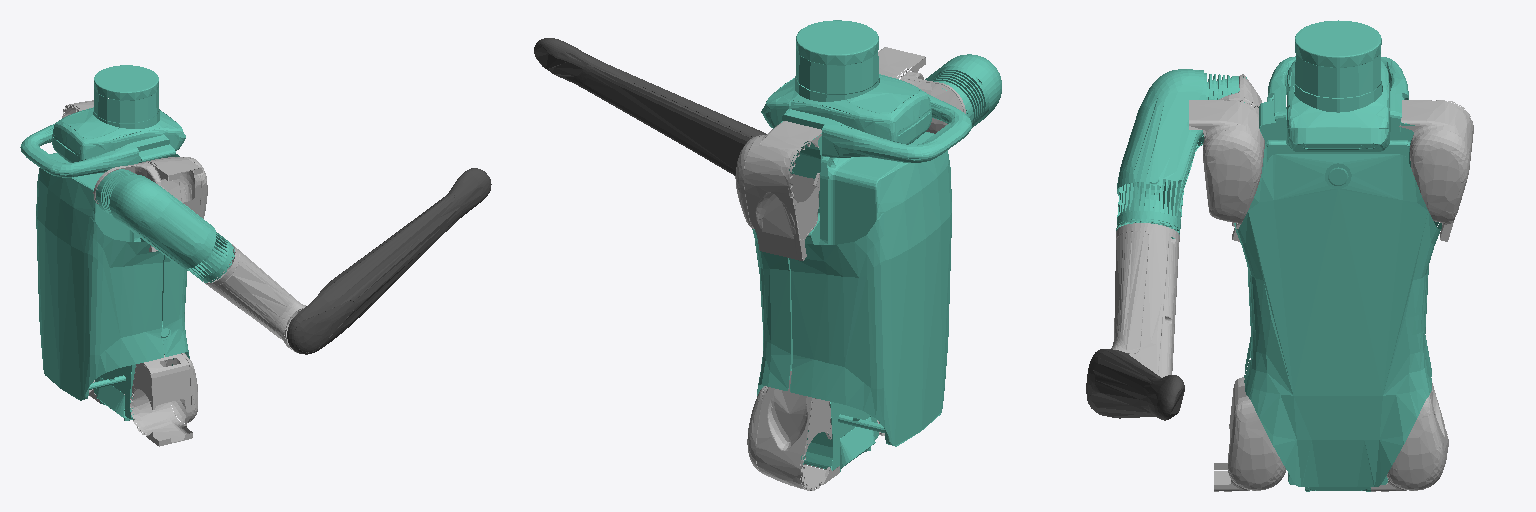
The robot description file, URDF, robot "digit-v3-springfixed":
<?xml version="1.0" encoding="utf-8"?>
<robot name="digit-v3-springfixed">
  <link name = "torso">
    <inertial>
      <origin rpy="0 0 0" xyz="0.001636612541 0.0002001180789 0.2593064529"/>
      <mass value="15.028392"/>
      <inertia ixx="0.3759052548" ixy="-8.776732849e-05" ixz="0.008498611229" iyy="0.3441935" iyz="6.621611757e-05" izz="0.09873232746"/>
    </inertial>
    <visual>
      <origin rpy="0 0 0" xyz="0 0 0"/>
      <geometry>
        <mesh filename="meshes/torso-v3/torso.stl"/>
      </geometry>
      <material name="scarlet">
        <color rgba="0.427 0.784 0.714 1"/>
      </material>
    </visual>
    <visual>
      <origin rpy="0 -1.5707963267948966192313216916398 0" xyz="-0.001 0.091 0"/>
      <geometry>
        <mesh filename="meshes/leg-v3/hip-roll-housing.stl"/>
      </geometry>
      <material name="light_grey">
        <color rgba="0.75 0.75 0.75 1"/>
      </material>
    </visual>
    <visual>
      <origin rpy="-0 -1.5707963267948966192313216916398 0" xyz="-0.001 0.12 0.4"/>
      <geometry>
        <mesh filename="meshes/arm-v3/link-0.stl"/>
      </geometry>
      <material name="light_grey">
        <color rgba="0.75 0.75 0.75 1"/>
      </material>
    </visual>
    <visual>
      <origin rpy="0 -1.5707963267948966192313216916398 0" xyz="-0.001 -0.091 0"/>
      <geometry>
        <mesh filename="meshes/leg-v3/hip-roll-housing.stl"/>
      </geometry>
      <material name="light_grey">
        <color rgba="0.75 0.75 0.75 1"/>
      </material>
    </visual>
    <visual>
      <origin rpy="0 -1.5707963267948966192313216916398 0" xyz="-0.001 -0.12 0.4"/>
      <geometry>
        <mesh filename="meshes/arm-v3/link-0.stl"/>
      </geometry>
      <material name="light_grey">
        <color rgba="0.75 0.75 0.75 1"/>
      </material>
    </visual>
    <collision>
      <origin rpy="0 0 0" xyz="0 0 0"/>
      <geometry>
        <mesh filename="meshes/torso-v3/torso.stl"/>
      </geometry>
    </collision>
    <collision>
      <origin rpy="0 -1.5707963267948966192313216916398 0" xyz="-0.001 0.091 0"/>
      <geometry>
        <mesh filename="meshes/leg-v3/hip-roll-housing.stl"/>
      </geometry>
    </collision>
    <collision>
      <origin rpy="-0.1745   -1.5707963267948966192313216916398         0" xyz="-0.001 0.12 0.4"/>
      <geometry>
        <mesh filename="meshes/arm-v3/link-0.stl"/>
      </geometry>
    </collision>
    <collision>
      <origin rpy="0 -1.5707963267948966192313216916398 0" xyz="-0.001 -0.091 0"/>
      <geometry>
        <mesh filename="meshes/leg-v3/hip-roll-housing.stl"/>
      </geometry>
    </collision>
    <collision>
      <origin rpy="0.1745   -1.5707963267948966192313216916398         0" xyz="-0.001 -0.12 0.4"/>
      <geometry>
        <mesh filename="meshes/arm-v3/link-0.stl"/>
      </geometry>
    </collision>
  </link>

  <!-- right arm -->
  <link name="right_shoulder_roll">
    <inertial>
      <origin rpy="0 0 0" xyz="-0.000819 0.003158 0.023405"/>
      <mass value="0.535396"/>
      <inertia ixx="0.000704" ixy="-1.4e-05" ixz="1.2e-05" iyy="0.00075" iyz="-3.5e-05" izz="0.000298"/>
    </inertial>
    <visual>
      <origin rpy="0         0    3.1415926535897932384626433832795" xyz="0 0 0"/>
      <geometry>
        <mesh filename="meshes/arm-v3/link-1.stl" scale="1 1 1"/>
      </geometry>
      <material name="light_grey">
        <color rgba="0.75 0.75 0.75 1"/>
      </material>
    </visual>
    <collision>
      <origin rpy="0         0    0.2793" xyz="0 0 0"/>
      <geometry>
        <mesh filename="meshes/arm-v3/link-1.stl" scale="1 1 1"/>
      </geometry>
    </collision>
  </link>
  <link name="right_shoulder_pitch">
    <inertial>
      <origin rpy="0 0 0" xyz="-4.2e-05 0.061882 -0.073788"/>
      <mass value="1.440357"/>
      <inertia ixx="0.006761" ixy="6e-06" ixz="-3e-06" iyy="0.002087" iyz="0.002046" izz="0.005778"/>
    </inertial>
    <visual>
      <origin rpy="0 0 3.1415926535897932384626433832795" xyz="0 0 0"/>
      <geometry>
        <mesh filename="meshes/arm-v3/link-2.stl" scale="1 1 1"/>
      </geometry>
      <material name="scarlet">
        <color rgba="0.427 0.784 0.714 1"/>
      </material>
    </visual>
    <collision>
      <origin rpy="0 0 0" xyz="0 0 0"/>
      <geometry>
        <mesh filename="meshes/arm-v3/link-2.stl" scale="1 1 1"/>
      </geometry>
    </collision>
  </link>
  <link name="right_shoulder_yaw">
    <inertial>
      <origin rpy="0 0 0" xyz="-3e-05 -0.001937 0.11407"/>
      <mass value="1.065387"/>
      <inertia ixx="0.006967" ixy="1e-06" ixz="-1e-06" iyy="0.007003" iyz="1.5e-05" izz="0.000673"/>
    </inertial>
    <visual>
      <origin rpy="0 0 3.1415926535897932384626433832795" xyz="0 0 0"/>
      <geometry>
        <mesh filename="meshes/arm-v3/link-3.stl" scale="1 1 1"/>
      </geometry>
      <material name="light_grey">
        <color rgba="0.75 0.75 0.75 1"/>
      </material>
    </visual>
    <collision>
      <origin rpy="0 0 0" xyz="0 0 0"/>
      <geometry>
        <mesh filename="meshes/arm-v3/link-3.stl" scale="1 1 1"/>
      </geometry>
    </collision>
  </link>
  <link name="right_elbow">
    <inertial>
      <origin rpy="0 0 0" xyz="0.107996 -0.000521 -0.017765"/>
      <mass value="0.550582"/>
      <inertia ixx="0.000476" ixy="2.9e-05" ixz="0.001403" iyy="0.009564" iyz="-9e-06" izz="0.009437"/>
    </inertial>
    <visual>
      <origin rpy="0 0 0" xyz="0 0 0"/>
      <geometry>
        <mesh filename="meshes/arm-v3/link-4.stl" scale="1 1 1"/>
      </geometry>
      <material name="grey">
        <color rgba="0.35 0.35 0.35 1"/>
      </material>
    </visual>
    <collision>
      <origin rpy="0 0 0" xyz="0 0 0"/>
      <geometry>
        <mesh filename="meshes/arm-v3/link-4.stl" scale="1 1 1"/>
      </geometry>
    </collision>
  </link>

  <!-- right arm -->
  <joint name="right_shoulder_roll" type="revolute">
    <origin rpy="1.5707963267948966192313216916398 -1.3962633 -1.5707963267948966192313216916398" xyz="-0.001 -0.12 0.4"/>
    <axis xyz="0 0 1"/>
    <parent link="torso"/>
    <child link="right_shoulder_roll"/>
    <dynamics damping="2.0" friction="2.0"/>
    <limit effort="1.4" lower="-1.309" upper="1.309" velocity="12.5"/>
  </joint>
  <joint name="right_shoulder_pitch" type="revolute">
    <origin rpy="-1.5707963267948966192313216916398 0.78539816339744830961566084581988 0.2792527" xyz="-0.00317 0.011055 0.0555"/>
    <axis xyz="0 0 -1"/>
    <parent link="right_shoulder_roll"/>
    <child link="right_shoulder_pitch"/>
    <dynamics damping="2.0" friction="2.0"/>
    <limit effort="1.4" lower="-2.5307" upper="2.5307" velocity="12.5"/>
  </joint>
  <joint name="right_shoulder_yaw" type="revolute">
    <origin rpy="-1.5707963267948966192313216916398         0         0" xyz="0 0.165 -0.1"/>
    <axis xyz="0 0 1"/>
    <parent link="right_shoulder_pitch"/>
    <child link="right_shoulder_yaw"/>
    <dynamics damping="2.0" friction="2.0"/>
    <limit effort="1.4" lower="-1.7453" upper="1.7453" velocity="10"/>
  </joint>
  <joint name="right_elbow" type="revolute">
    <origin rpy="-1.5707963267948966192313216916398 -0.3926991 0" xyz="0 0.0385 0.185"/>
    <axis xyz="0 0 1"/>
    <parent link="right_shoulder_yaw"/>
    <child link="right_elbow"/>
    <dynamics damping="2.0" friction="2.0"/>
    <limit effort="1.4" lower="-1.3526" upper="1.3526" velocity="12.5"/>
  </joint>
</robot>

--- What the picture shows (computed from the rendered views, not written in the file) ---
Views: 3 orthographic renders of the robot side by side, from view 1: azimuth 30°, elevation 25°; view 2: azimuth 150°, elevation 25°; view 3: azimuth 270°, elevation 25°.
Robot: digit-v3-springfixed — 5 links, 4 joints (4 revolute); root link torso; default pose: every joint at zero.
Links seen in each view (by area): view 1: torso, right_elbow, right_shoulder_pitch, right_shoulder_yaw, right_shoulder_roll; view 2: torso, right_elbow, right_shoulder_pitch, right_shoulder_roll; view 3: torso, right_shoulder_pitch, right_shoulder_yaw, right_elbow, right_shoulder_roll.
Link boxes in pixels (x1,y1,x2,y2): torso: (20, 65, 207, 446); right_elbow: (287, 168, 491, 354); right_shoulder_pitch: (96, 169, 234, 282); right_shoulder_yaw: (203, 244, 305, 352); right_shoulder_roll: (93, 162, 160, 203); torso: (735, 20, 971, 490); right_elbow: (534, 38, 766, 175); right_shoulder_pitch: (925, 54, 1001, 127); right_shoulder_roll: (900, 71, 965, 133); torso: (1189, 20, 1473, 491); right_shoulder_pitch: (1116, 69, 1246, 238); right_shoulder_yaw: (1111, 223, 1179, 377); right_elbow: (1086, 349, 1184, 420); right_shoulder_roll: (1203, 74, 1261, 137).
Bounding box of the posed robot: 0.7027 × 0.4488 × 0.5639 m (x, y, z).
Meshes: 7 distinct files referenced, 9 mesh visuals loaded (7 binary STL).